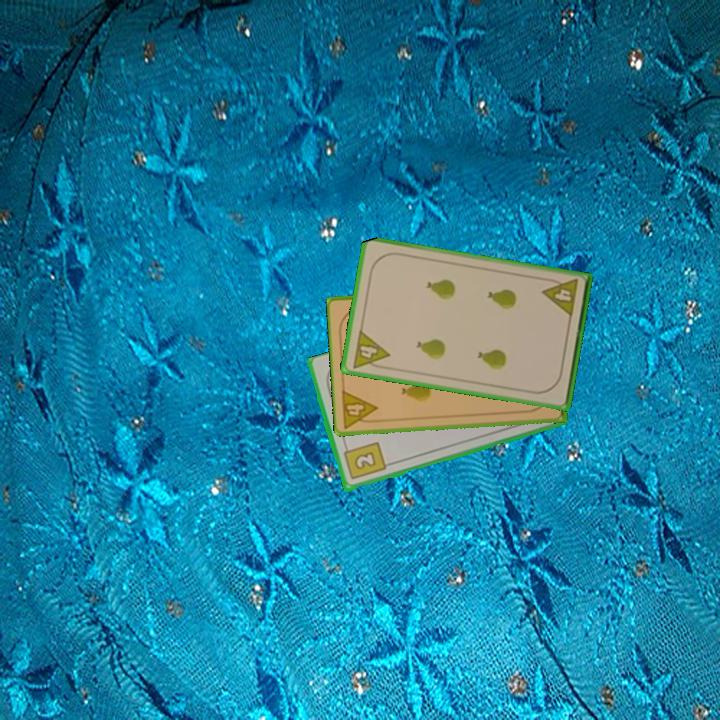2b: (340, 439, 388, 483)
4p: (349, 326, 392, 373), (339, 387, 382, 431), (539, 275, 581, 320)
